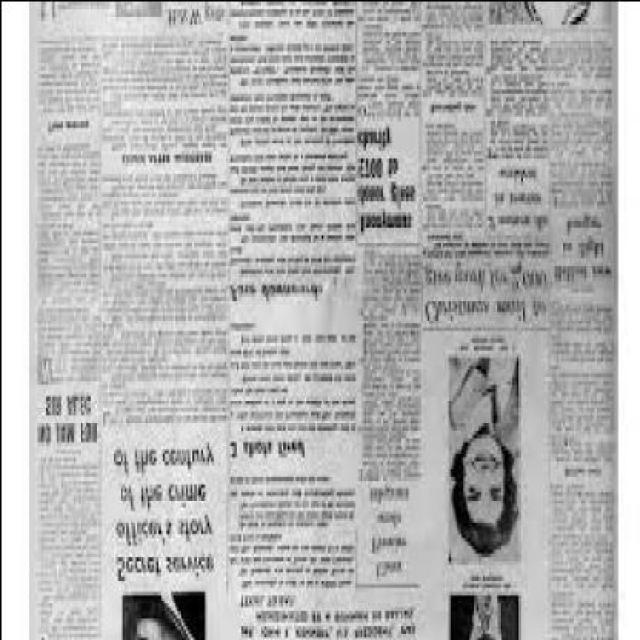PAPER: (24, 3, 614, 639)
